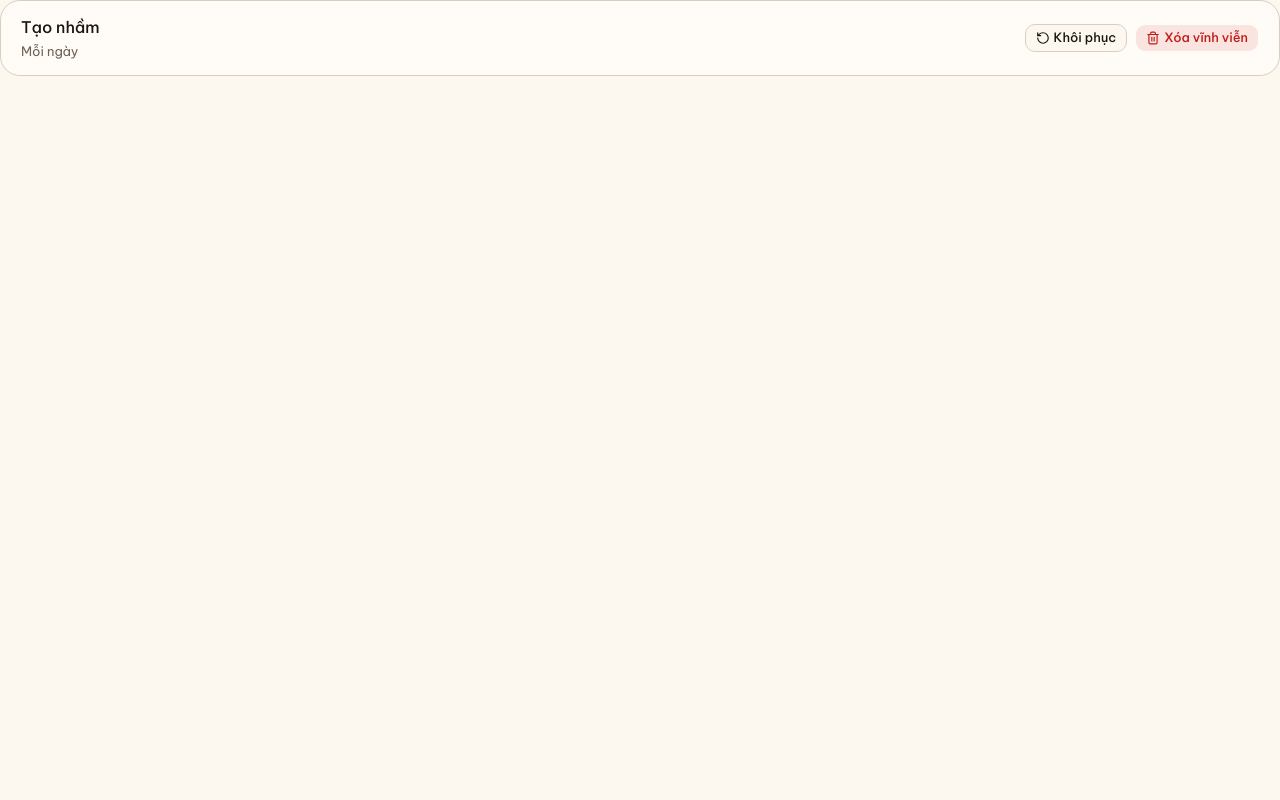
it: HabitTrashList › keeps the dialog open and offers a reload on a revision conflict
Later steps or results of the test are not shown.
Click the button named "Xóa vĩnh viễn \"Tạo nhầm\"" at (1197, 38), box [1135, 24, 1259, 52]
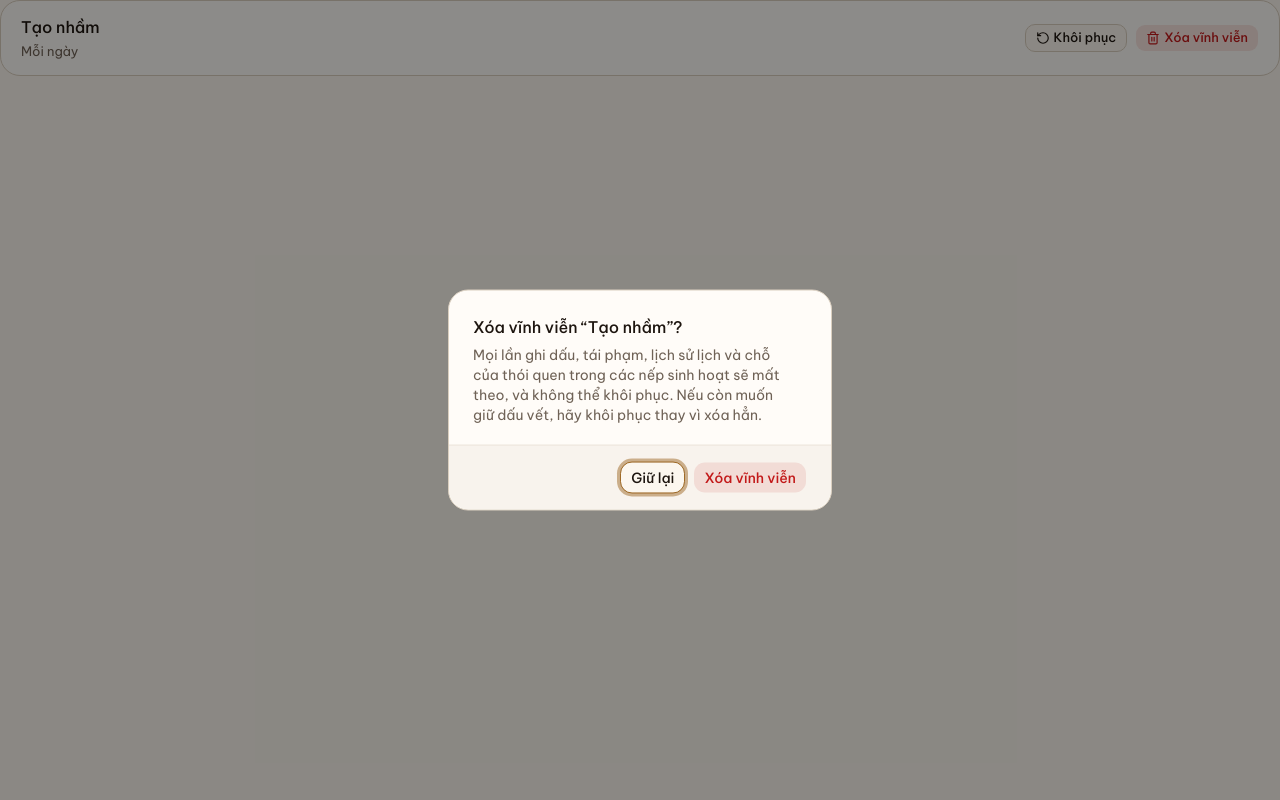
Click the button "Xóa vĩnh viễn" at (750, 478), box [693, 462, 807, 494]
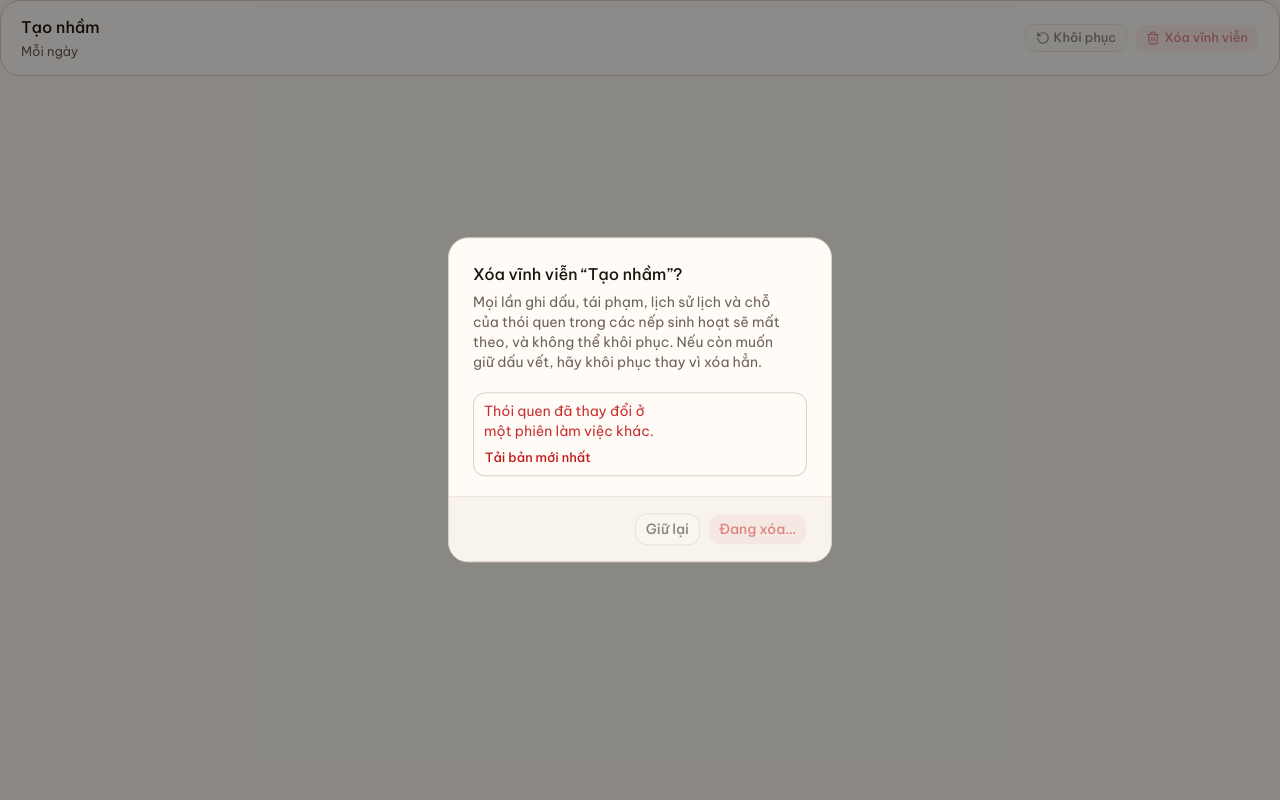
Result: the text "Thói quen đã thay đổi ở một phiên làm việc khác." is shown at [484, 402, 654, 440]
